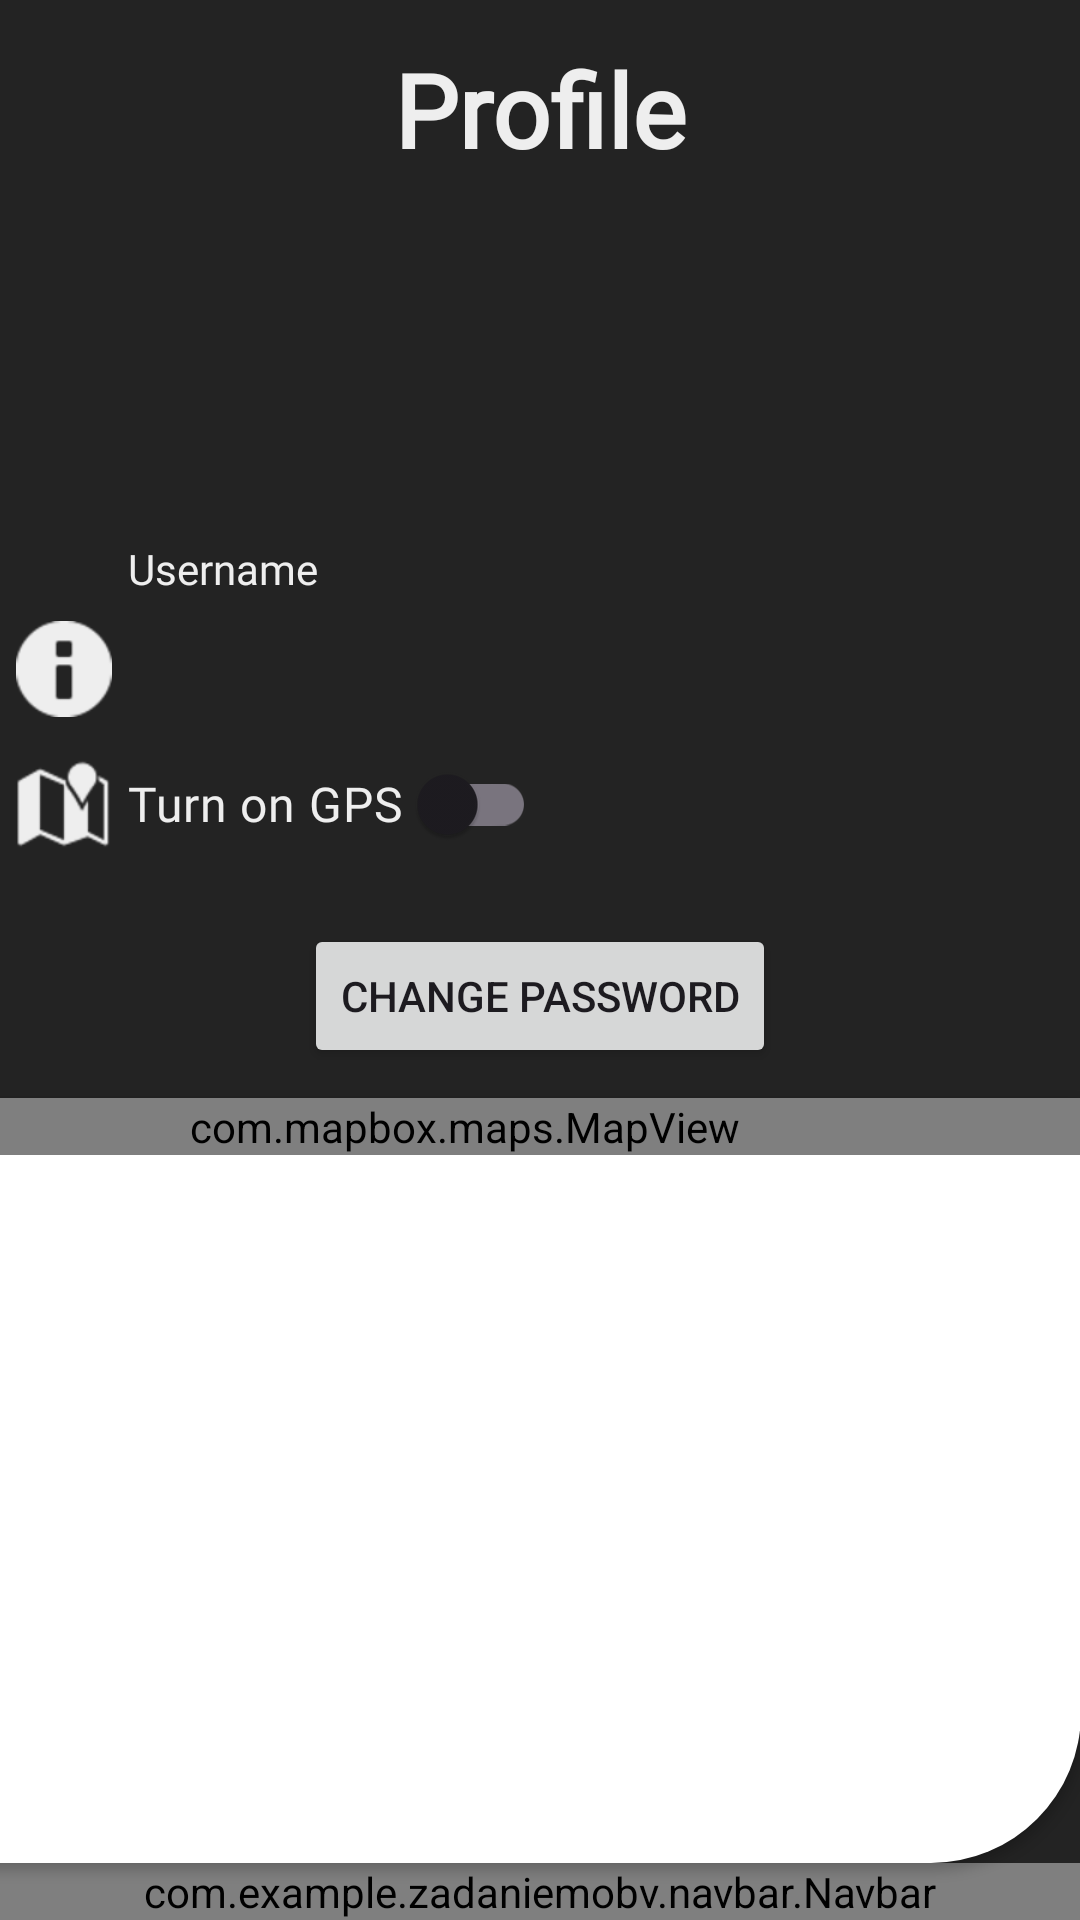

Where icons sit on this 1080x1920 app screen, as (x1, y1, x2, y2):
info: (16, 621, 112, 717)
map: (17, 762, 109, 846)
